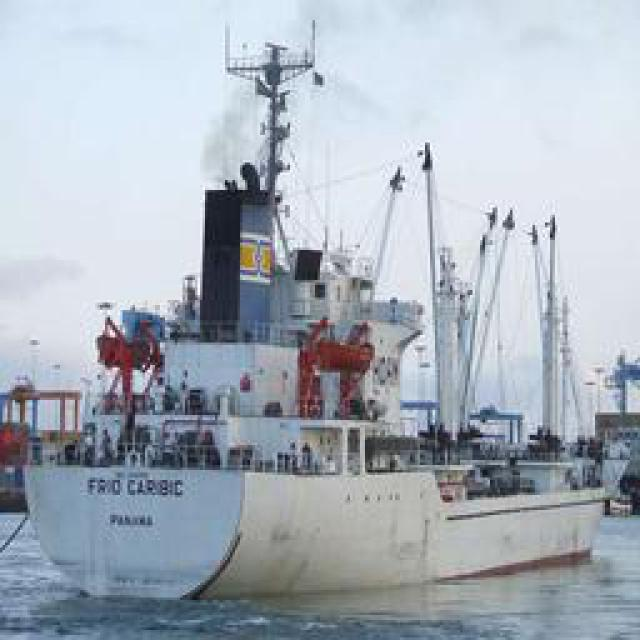Ship: (17, 90, 625, 603)
